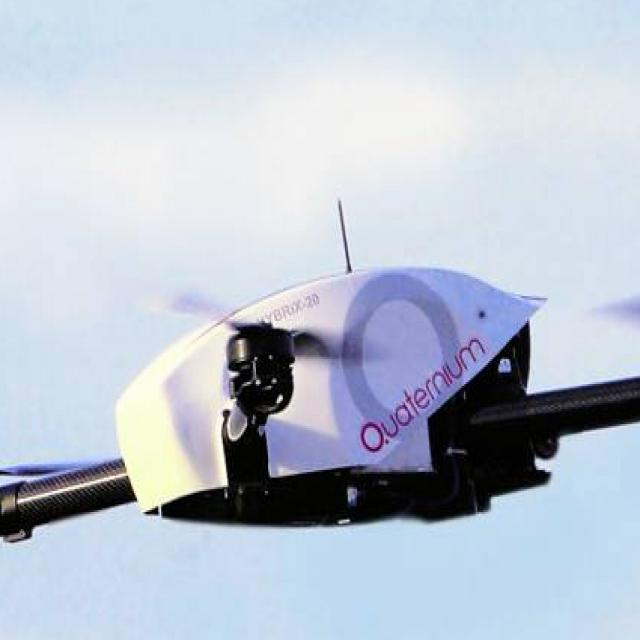drone: (0, 248, 640, 570)
